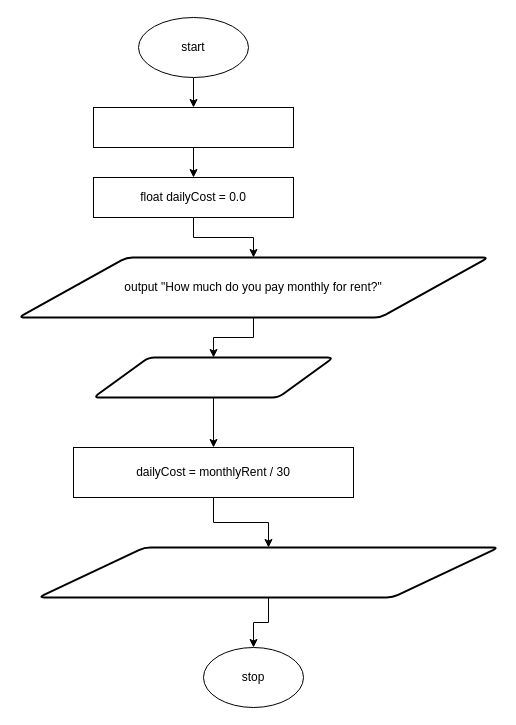
Some shapes in this 516 by 725 pixel diagram are drawn without their labels. Here are the shapes that lost their labels. From the top down, the centre of each, then its label:
point (193, 127): float monthlyRent = 0.0
point (213, 377): input monthlyRent
point (268, 572): output "The daily cost of your rent is $" + dailyCost
